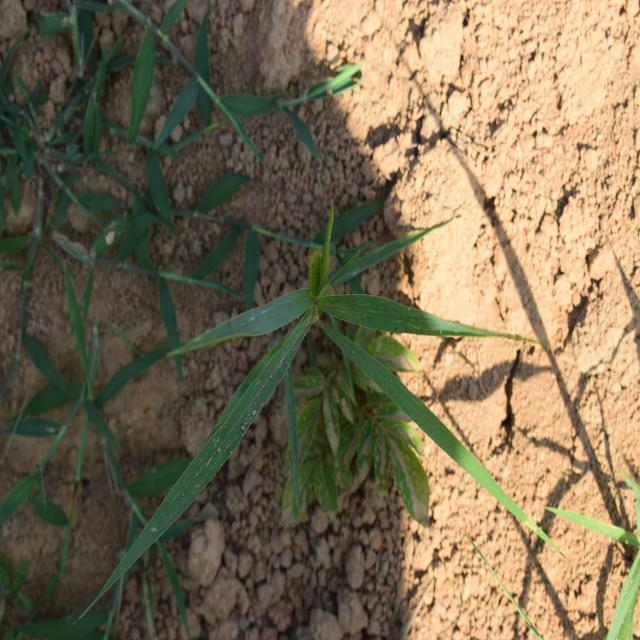green_foxtail: (138, 218, 483, 513)
